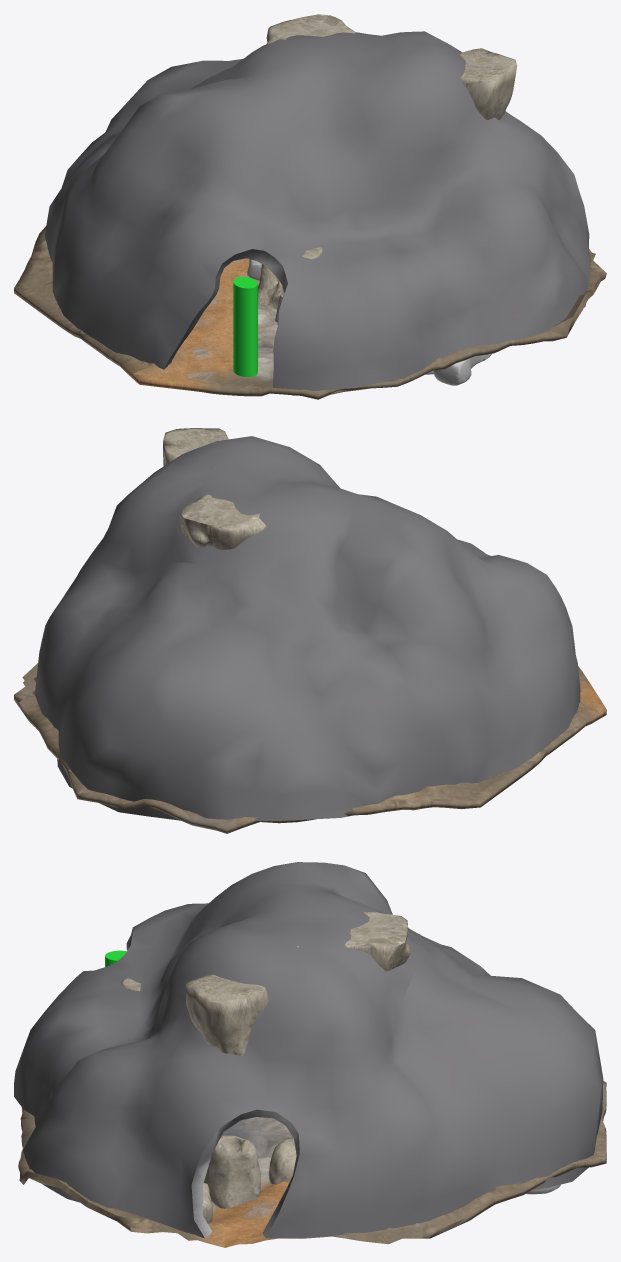
File: Painting Cave Full 2.fbx
The picture shows the model from 3 angles, top to bottom: view 1: azimuth 30°, elevation 25°; view 2: azimuth 150°, elevation 25°; view 3: azimuth 270°, elevation 25°; orthographic projection. The views are drawn at different scales.
Parts seen in each view (by area): view 1: Cave, Floor, pilar2.001, Exit Human, pilar1.001, smallrockcluster.001, pilar2_1.003; view 2: Cave, Floor, pilar1.001, pilar2.001; view 3: Cave, Floor, pilar2.001, pilar3.001, pilar1.001, pilar7.002.
Part boxes in pixels (<box>): Cave: <box>44,31,591,390</box>; Floor: <box>14,226,606,399</box>; pilar2.001: <box>459,48,517,119</box>; Exit Human: <box>233,277,257,377</box>; pilar1.001: <box>266,14,355,44</box>; smallrockcluster.001: <box>425,353,491,385</box>; pilar2_1.003: <box>258,264,283,309</box>; Cave: <box>35,436,580,821</box>; Floor: <box>14,663,606,833</box>; pilar1.001: <box>180,494,265,549</box>; pilar2.001: <box>163,428,228,465</box>; Cave: <box>14,862,603,1238</box>; Floor: <box>18,1081,606,1247</box>; pilar2.001: <box>185,974,268,1055</box>; pilar3.001: <box>203,1135,260,1208</box>; pilar1.001: <box>345,911,410,971</box>; pilar7.002: <box>268,1138,296,1184</box>.
Size of what is drawn, in the model's own units: 956 by 479 by 996.
